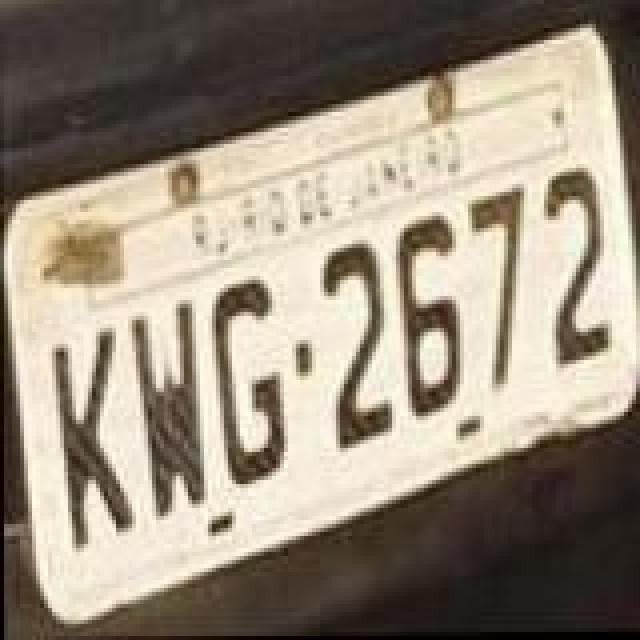2: (316, 240, 392, 456), (540, 164, 616, 376)
6: (392, 214, 460, 426)
7: (468, 184, 528, 396)
G: (212, 276, 288, 488)
K: (46, 324, 134, 552)
W: (132, 294, 208, 518)
